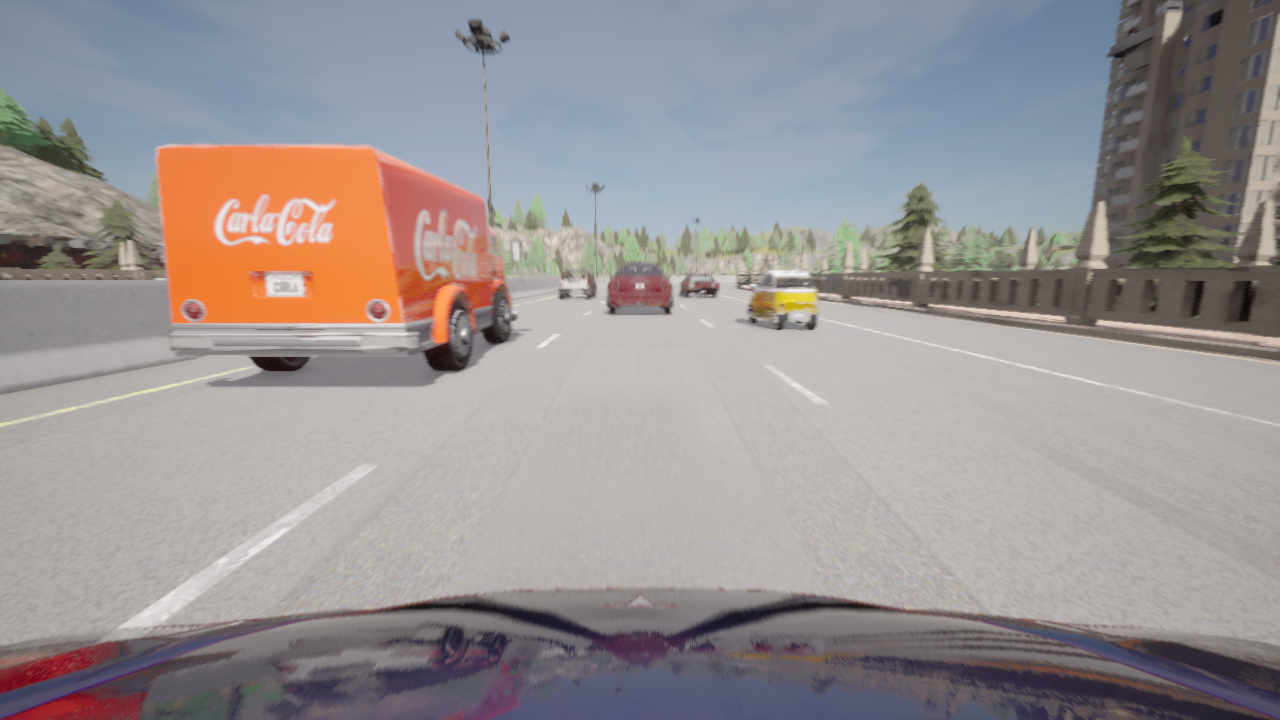cyclist: (0, 588, 1279, 719), (156, 145, 521, 371), (748, 270, 818, 330), (607, 262, 672, 313), (558, 269, 595, 298), (680, 275, 718, 297)
